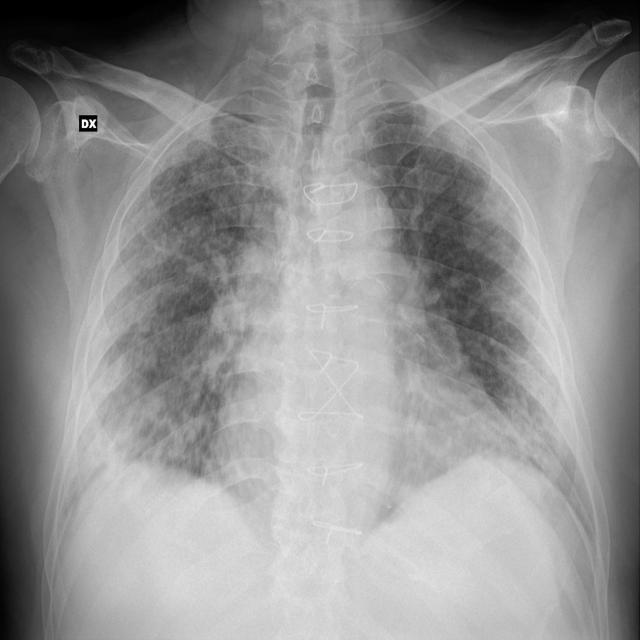abnormalities: (405, 188, 511, 449), (162, 210, 262, 464)
diaphragm: (57, 458, 599, 640)
heart: (205, 160, 526, 556)
left_lobe: (345, 37, 598, 555)
right_lobe: (49, 55, 296, 575)
